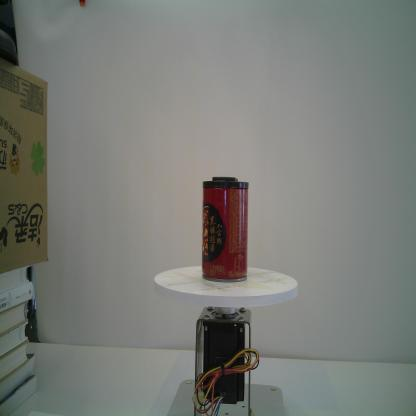Canned Food: (200, 174, 250, 284)
